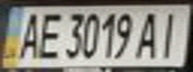0: (81, 9, 100, 60)
1: (100, 9, 121, 58)
3: (60, 9, 84, 60)
9: (112, 9, 139, 58)
A: (12, 8, 45, 61), (136, 8, 163, 60)
E: (33, 8, 63, 61)
I: (154, 8, 187, 60)
